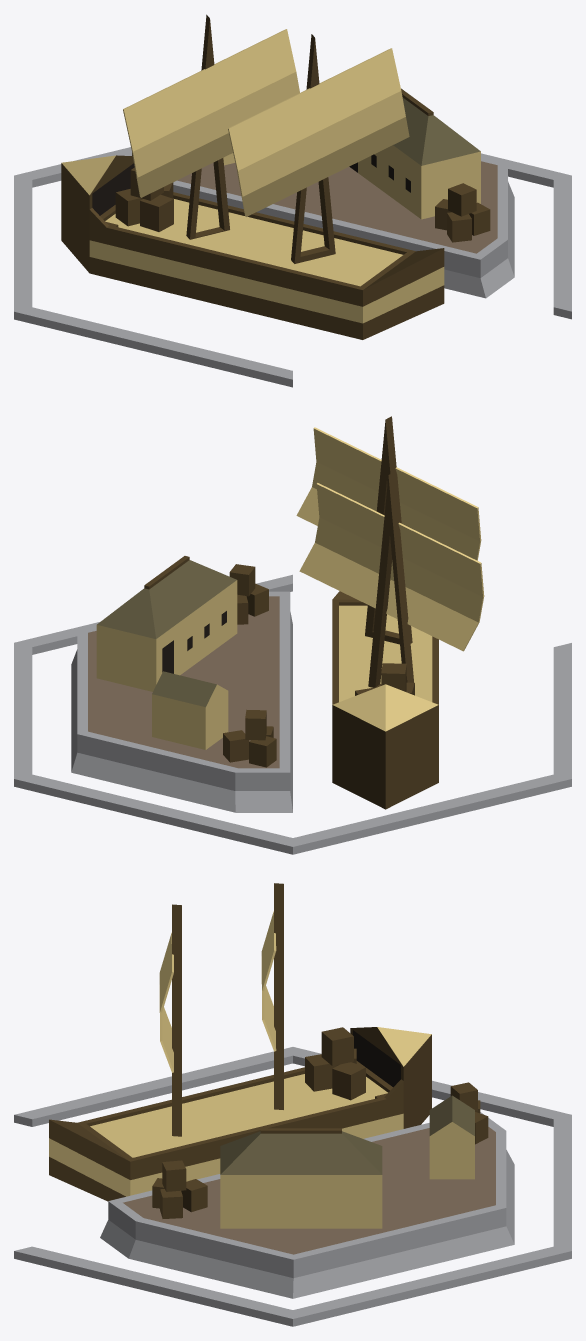
File: MJ_Building_Harbor.fbx
3 renders of one model, top to bottom at view 1: azimuth 30°, elevation 25°; view 2: azimuth 150°, elevation 25°; view 3: azimuth 270°, elevation 25°, orthographic.
Parts seen in each view (by area): view 1: Model, Group9, Group11, Group10, Group12, Group6, Group5, Group7; view 2: Model, Group11, Group9, Group12, Group10, Group8, Group4, Group3, Group6, Group5; view 3: Model, Group10, Group12, Group9, Group11, Group6, Group2, Group7.
Boxes of the visible parts, <box> form: Model: <box>14,88,571,387</box>; Group9: <box>228,48,409,216</box>; Group11: <box>123,29,299,197</box>; Group10: <box>291,34,335,263</box>; Group12: <box>186,14,229,239</box>; Group6: <box>448,183,476,216</box>; Group5: <box>447,212,471,242</box>; Group7: <box>469,202,490,235</box>; Model: <box>14,556,571,854</box>; Group11: <box>299,483,484,651</box>; Group9: <box>296,427,481,560</box>; Group12: <box>368,472,414,687</box>; Group10: <box>365,416,412,644</box>; Group8: <box>223,730,249,762</box>; Group4: <box>249,736,276,767</box>; Group3: <box>245,709,266,740</box>; Group6: <box>229,564,255,596</box>; Group5: <box>246,583,268,616</box>; Model: <box>14,1027,571,1326</box>; Group10: <box>172,904,181,1136</box>; Group12: <box>274,883,283,1109</box>; Group9: <box>159,932,173,1072</box>; Group11: <box>261,911,276,1051</box>; Group6: <box>162,1160,186,1191</box>; Group2: <box>181,1179,207,1212</box>; Group7: <box>160,1189,182,1218</box>.
Bounding box in the file's own units: 6 × 2.75 × 5.2.
